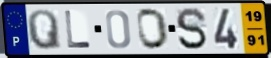0: (104, 9, 133, 50)
4: (212, 7, 241, 51)
L: (63, 9, 93, 50)
O: (136, 7, 170, 51)
Q: (25, 8, 63, 51)
S: (174, 6, 210, 52)
